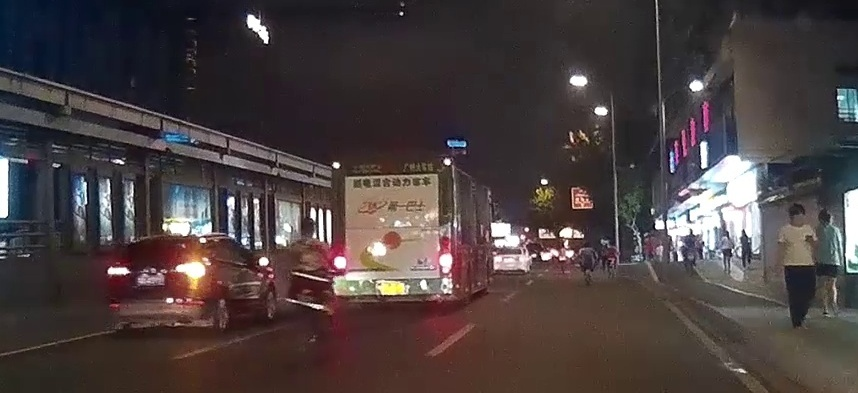L_light: (332, 242, 345, 274), (107, 266, 130, 281)
R_light: (438, 237, 452, 274), (176, 261, 206, 278)
T_light: (378, 167, 402, 176), (153, 238, 172, 244)
night-no: (331, 155, 454, 316)
night-right: (107, 234, 214, 334)
